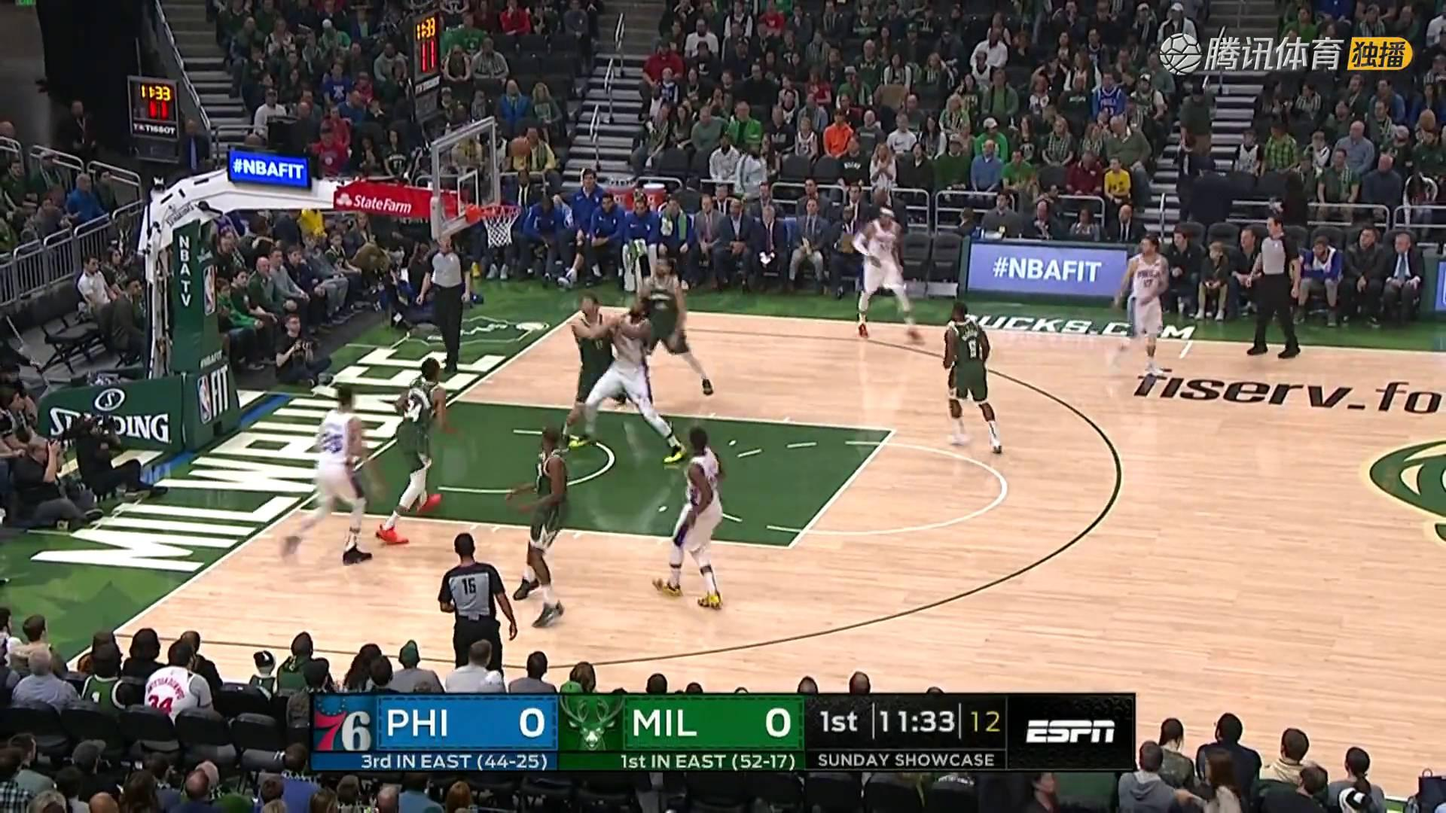basketball: (508, 137, 532, 160)
